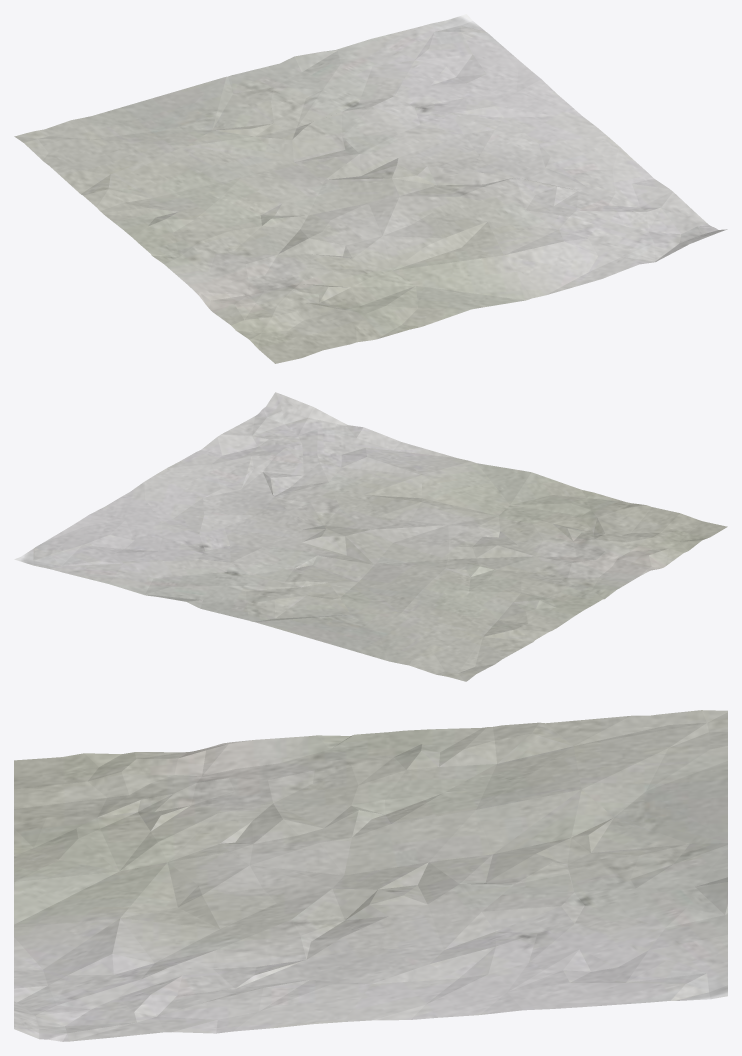
The picture shows the model from 3 angles, top to bottom: view 1: azimuth 30°, elevation 25°; view 2: azimuth 150°, elevation 25°; view 3: azimuth 270°, elevation 25°; orthographic projection. The views are drawn at different scales.
Size of the model in its own units: 2.95 by 0.3043 by 2.95.
Materials: 3 (3 with a texture image).
